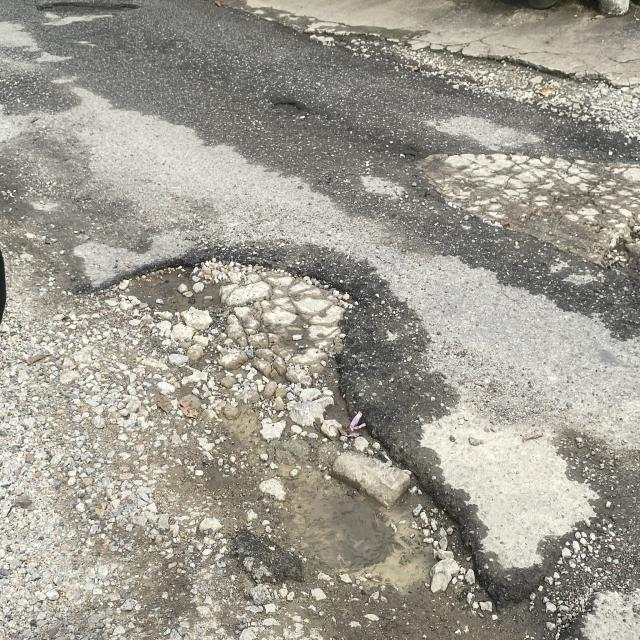Pothole: (125, 218, 522, 610)
